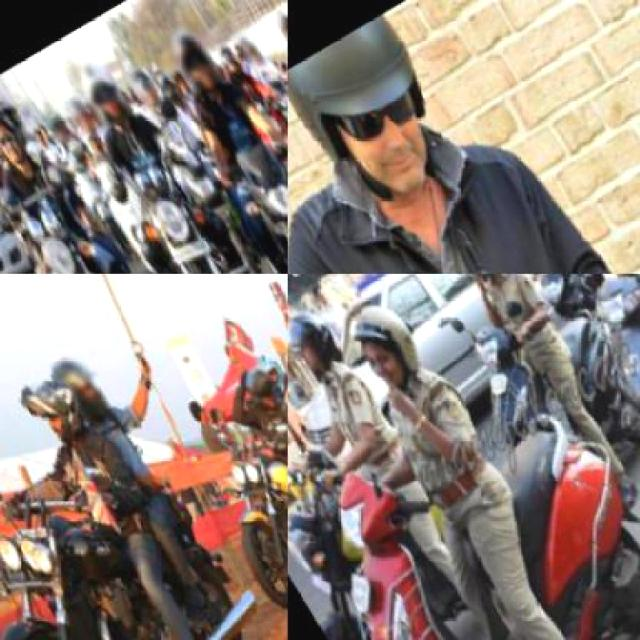With Helmet: (288, 9, 480, 234), (328, 284, 439, 408), (11, 366, 94, 459), (288, 294, 354, 394), (62, 51, 136, 137), (37, 348, 111, 430), (156, 18, 227, 100), (230, 359, 288, 426), (0, 88, 38, 174), (0, 83, 34, 148), (437, 274, 518, 298), (127, 67, 165, 116), (229, 29, 268, 74), (62, 94, 100, 140), (212, 43, 250, 89), (151, 68, 183, 110), (45, 116, 72, 149), (271, 10, 286, 56)
